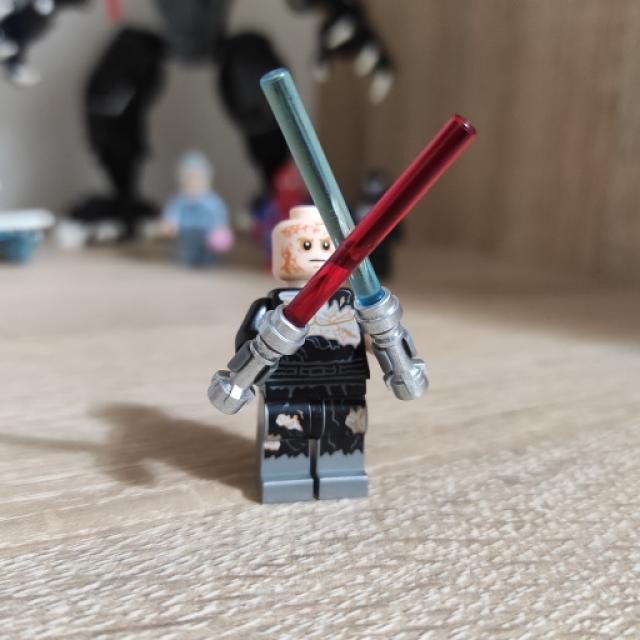Lego-Minifigures: (184, 146, 437, 518)
